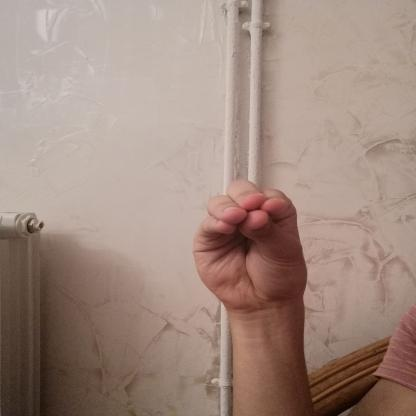HA: (172, 166, 332, 324)
